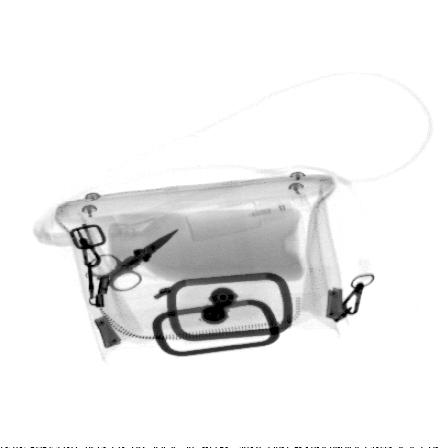Scissors: (84, 228, 180, 293)
